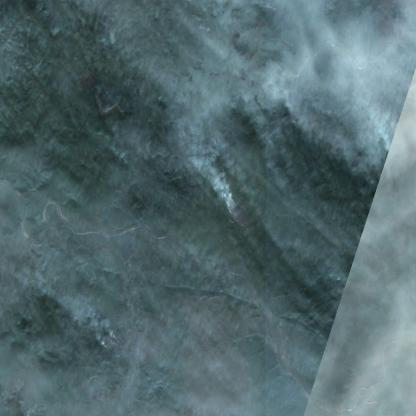fire: (86, 325, 119, 356), (220, 181, 240, 230)
